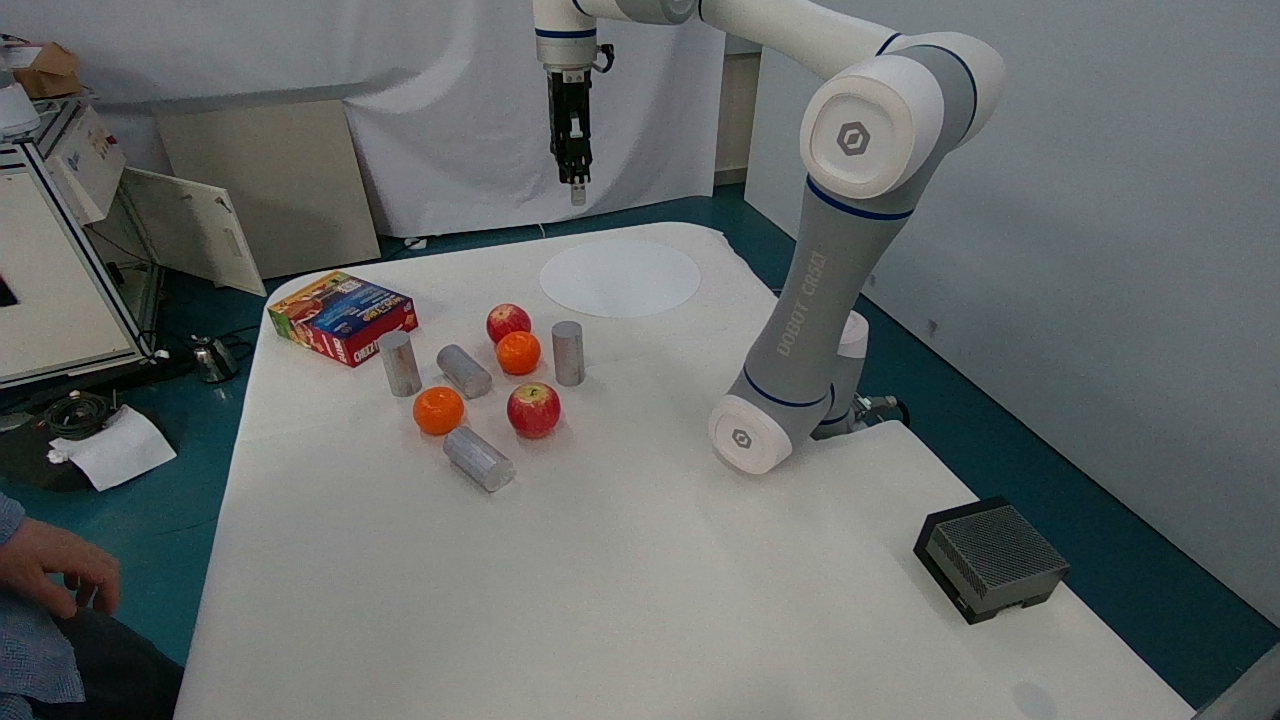apple: (497, 370, 569, 447), (479, 296, 537, 341)
metal rod: (429, 411, 525, 512), (540, 302, 596, 395), (430, 326, 496, 401), (369, 325, 421, 401)
orange: (405, 377, 476, 441), (486, 320, 543, 383)
